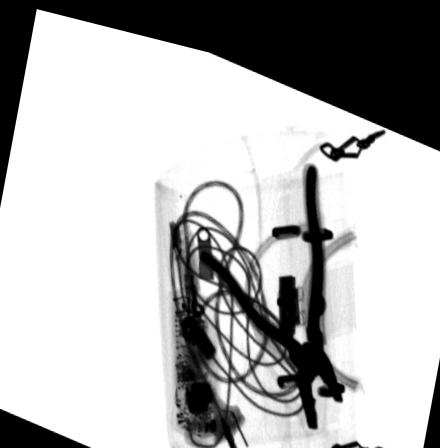Pliers: (197, 145, 345, 414)
